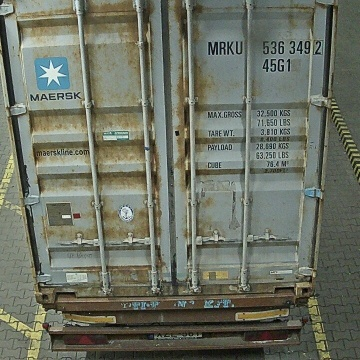serial_id: (209, 39, 323, 54)
